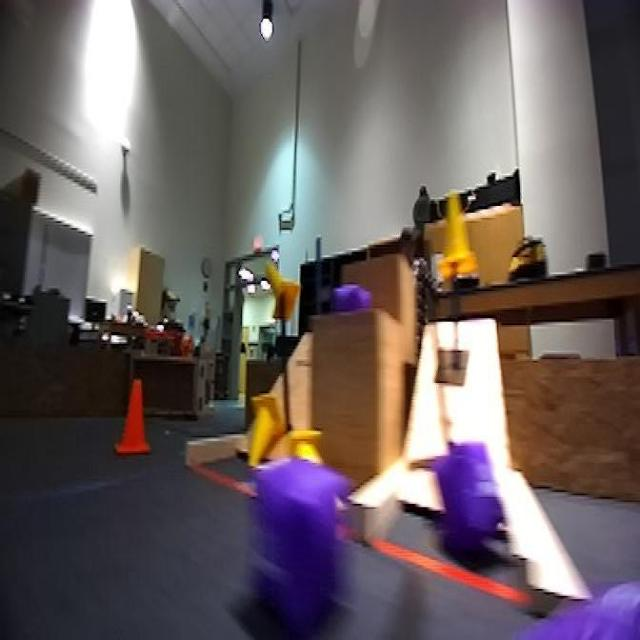frc_cone: (288, 431, 350, 531), (432, 179, 477, 281), (248, 259, 286, 325), (245, 383, 283, 444)
frc_cube: (252, 454, 356, 635), (503, 578, 640, 640), (432, 441, 505, 551), (338, 281, 378, 313)
